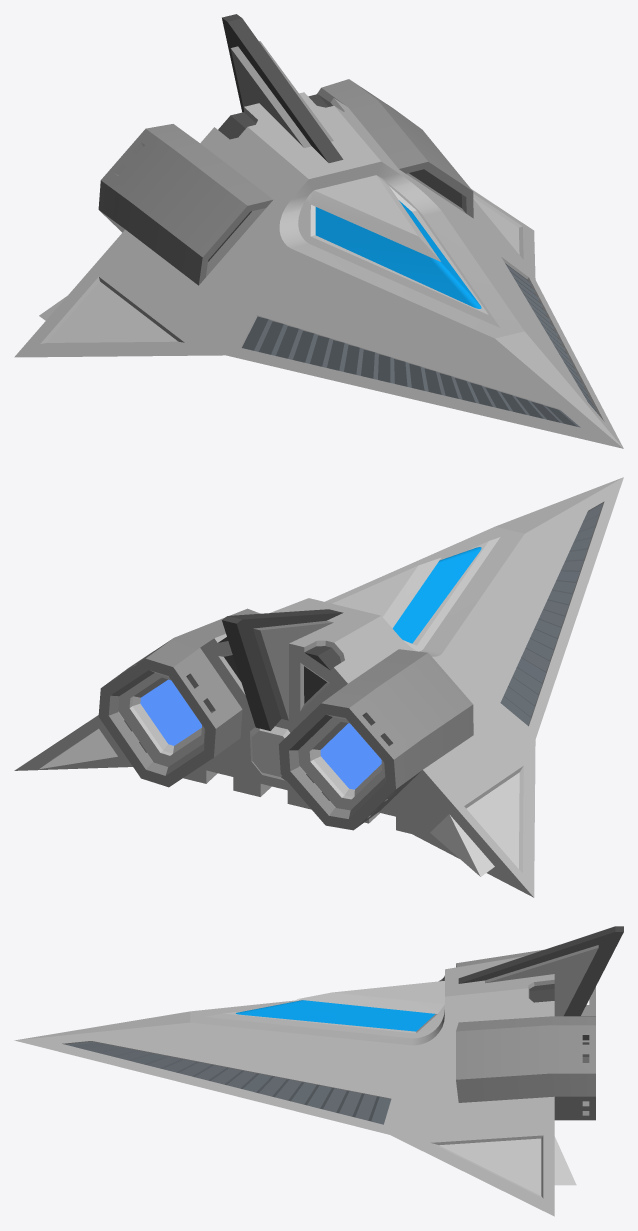
Rendered from Corvette01.fbx.
3 views of the same model, one above another, from view 1: azimuth 30°, elevation 25°; view 2: azimuth 150°, elevation 25°; view 3: azimuth 270°, elevation 25° (orthographic). The views are drawn at different scales.
Parts seen in each view (by area): view 1: Mesh_HD; view 2: Mesh_HD; view 3: Mesh_HD.
Boxes of the visible parts, x1,y1,x2,y2 form: Mesh_HD: [14, 14, 623, 448]; Mesh_HD: [14, 477, 623, 897]; Mesh_HD: [14, 926, 623, 1216].
Bounding box in the file's own units: 315 × 142 × 415.
